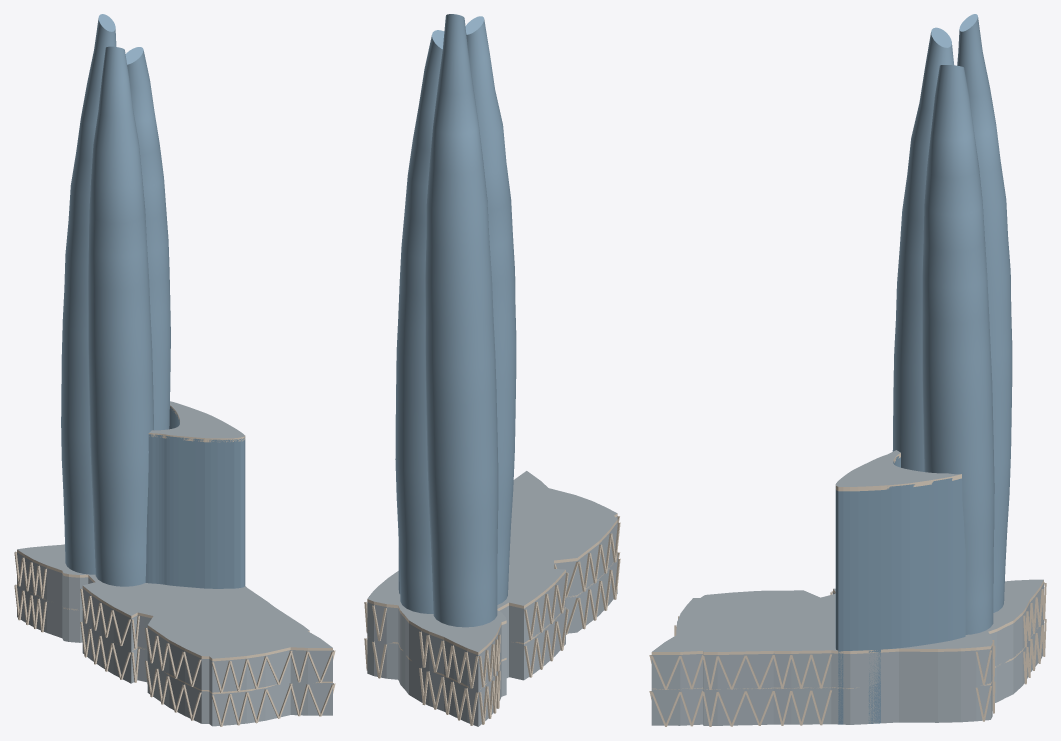
Rendered from sydney-crown-sydney.glb.
The picture shows the model from 3 angles, left to right: view 1: azimuth 30°, elevation 25°; view 2: azimuth 150°, elevation 25°; view 3: azimuth 270°, elevation 25°; orthographic projection. The views are drawn at different scales.
Parts seen in each view (by area): view 1: Crown Sydney; view 2: Crown Sydney; view 3: Crown Sydney.
Part boxes in pixels (x1,y1,x2,y2): Crown Sydney: [14, 14, 335, 726]; Crown Sydney: [364, 14, 620, 726]; Crown Sydney: [649, 14, 1046, 726].
Size of the model in its own units: 65.22 by 271 by 146.
